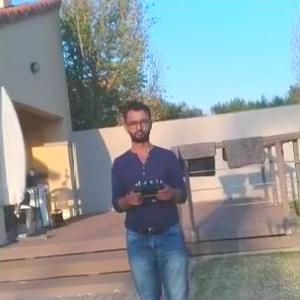follow: (106, 97, 194, 299)
